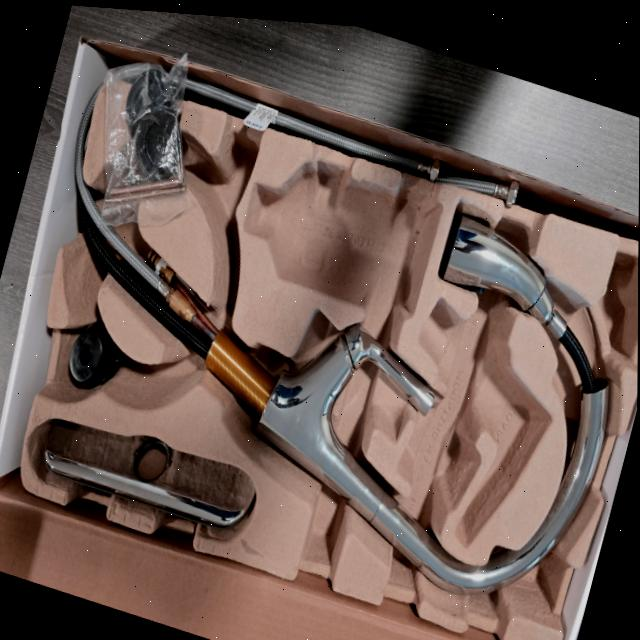1: (72, 182, 609, 595)
2m: (417, 296, 548, 547)
3m: (242, 159, 440, 314)
4: (44, 422, 255, 529)
5: (67, 324, 116, 388)
6m: (190, 131, 259, 269)
7: (97, 49, 187, 225)
